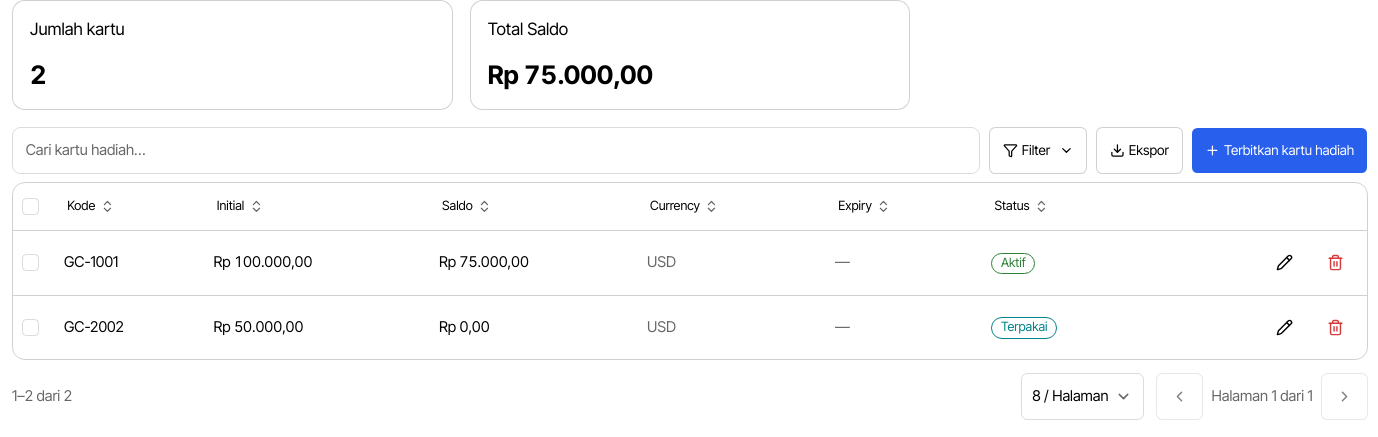
Test case: GiftCardsSection › filters cards through the search box
expect the link "GC-1001" is shown: met, box [64,253,118,271]
Type "2002" into the search field with placeholder "Cari kartu hadiah…" at coordinates (496, 150), box [12,127,980,174]
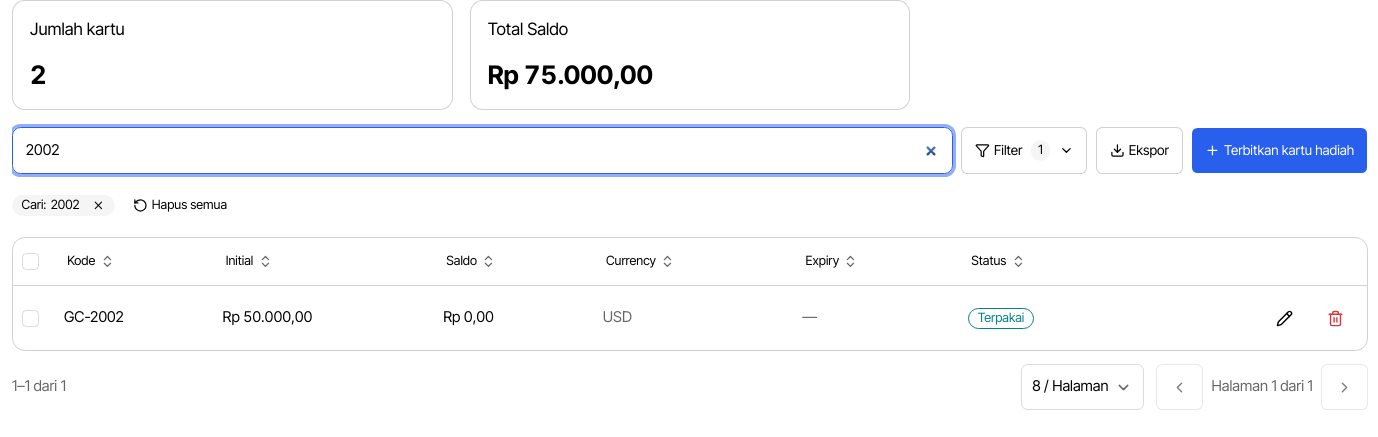
expect the link "GC-2002" is shown: met, box [64,308,124,326]
expect the link "GC-1001" is gone: met
